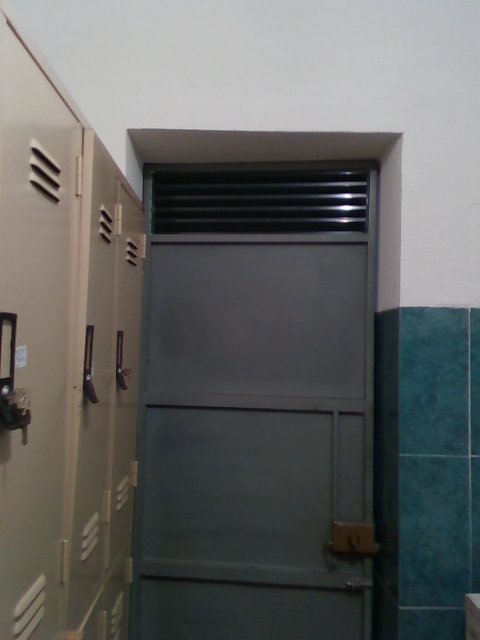closed: (110, 127, 399, 639)
